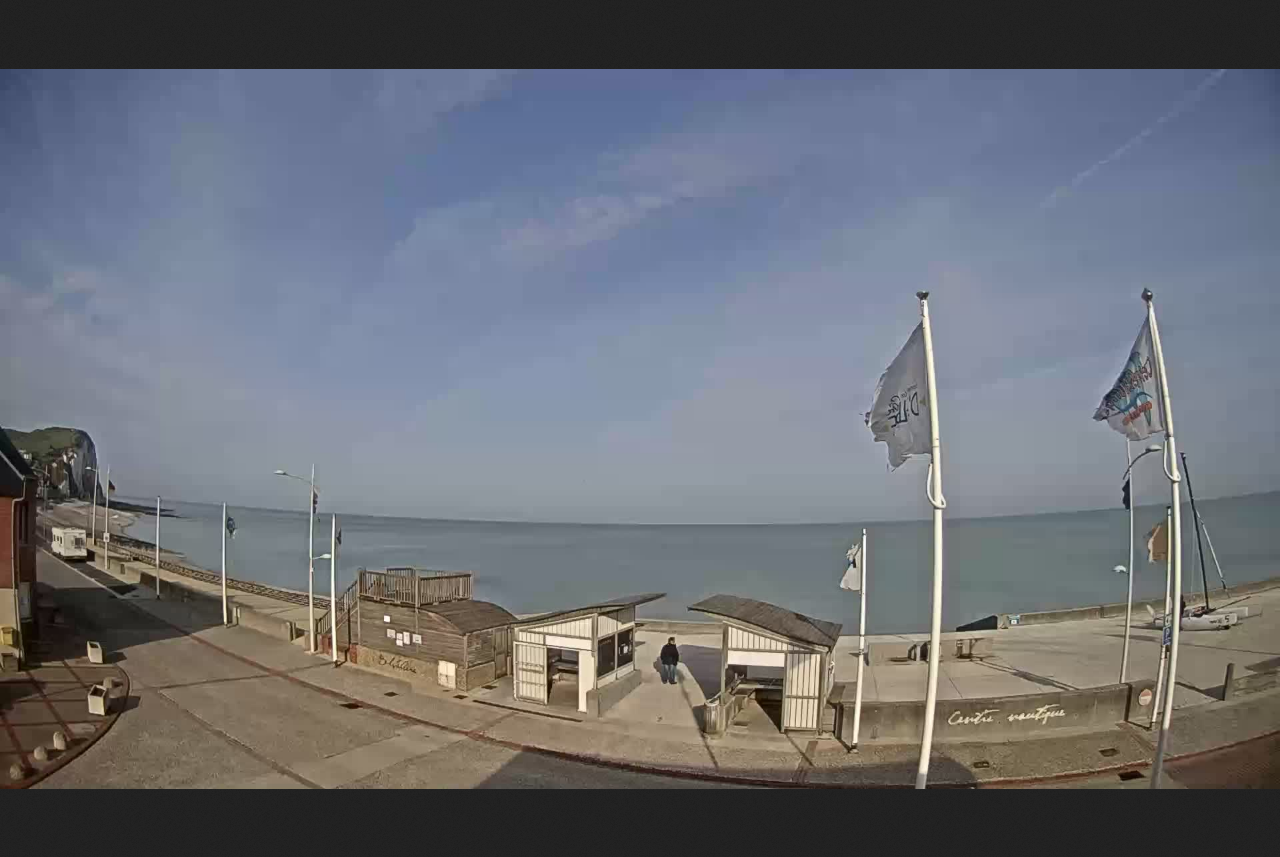yes: (866, 328, 937, 469), (1094, 321, 1167, 441), (837, 540, 870, 590), (1147, 521, 1170, 562)
